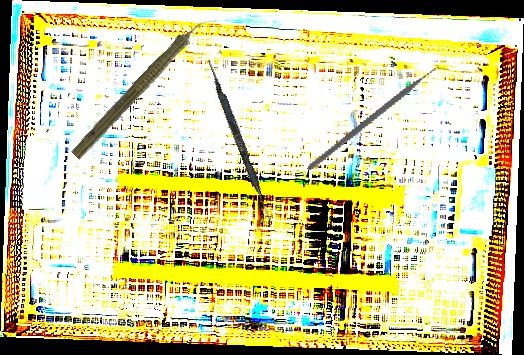Chopper: (307, 35, 451, 204)
Handpiece: (68, 6, 219, 166)
Spatula Surgical: (202, 58, 278, 228)
